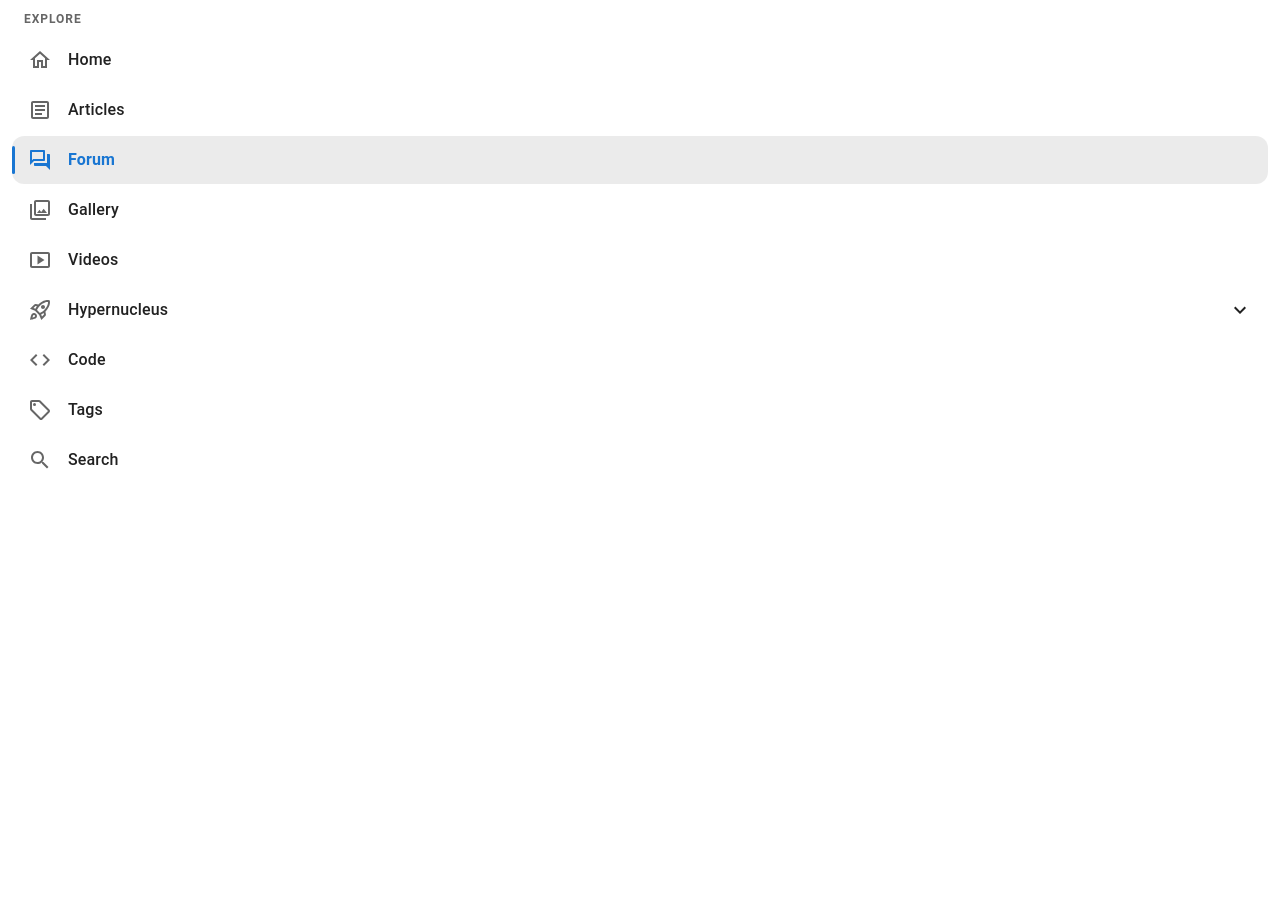
Test: Hypernucleus menu rendering › expands as a group in the drawer
This screenshot has width=1280, height=900.
Click the button with test id "drawer-nav-hypernucleus" at (118, 309), box [28,298,1252,322]
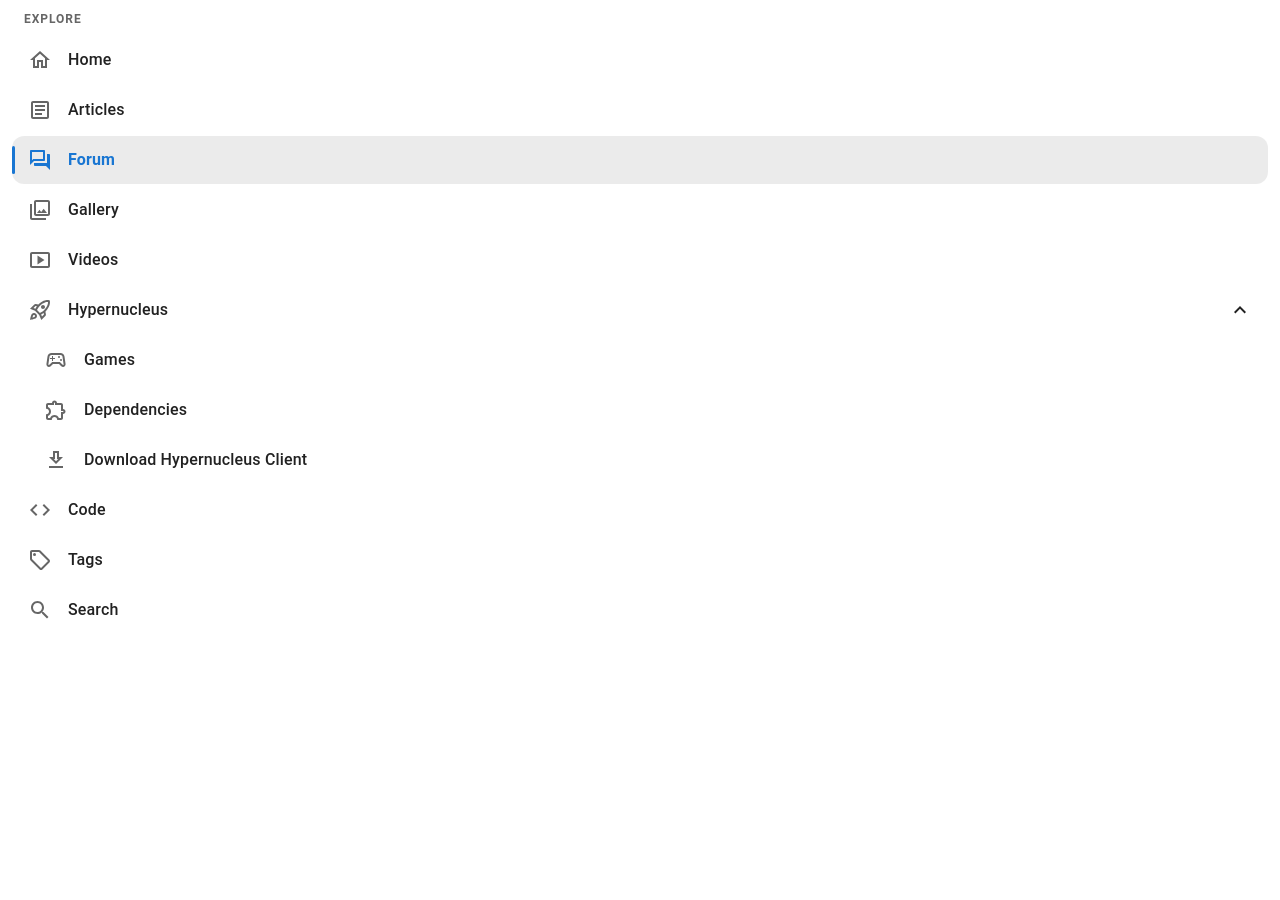
Now the button with test id "drawer-nav-hypernucleus" is expanded, box [28,298,1252,322]
Now the link with test id "drawer-nav-hypernucleus-games" is shown, box [44,348,135,372]
